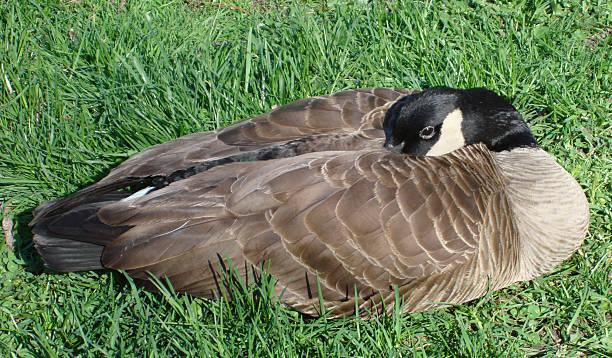Canadian-Goose: (25, 77, 591, 324)
